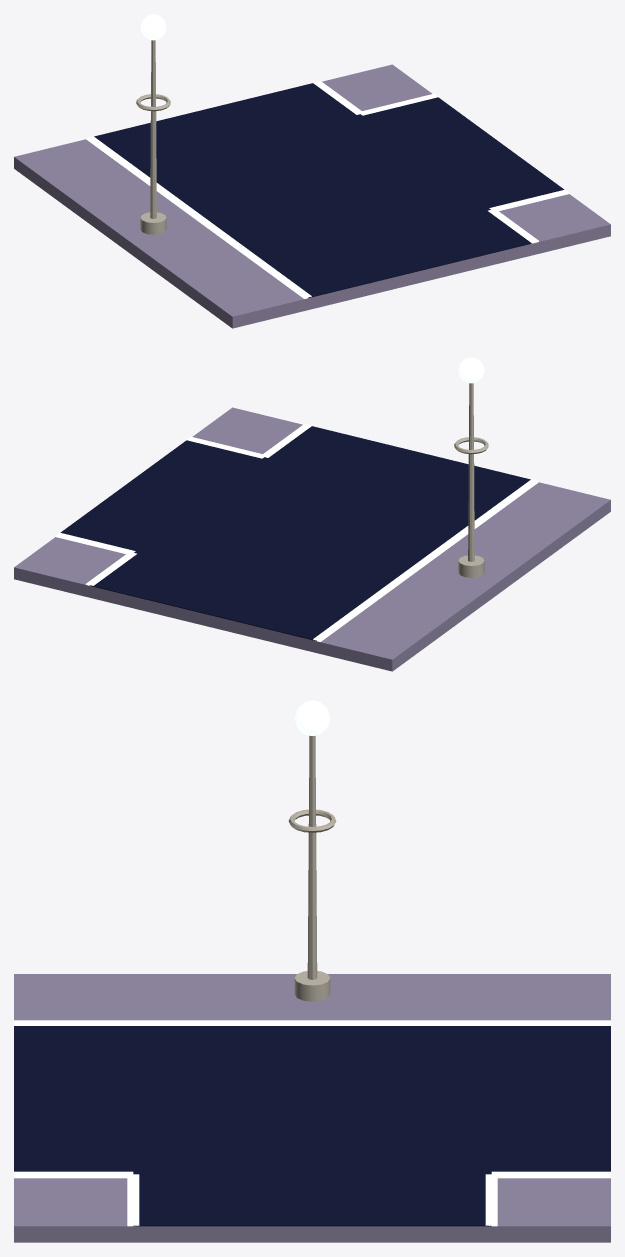
Rendered from lane_tee.glb.
The picture shows the model from 3 angles, top to bottom: view 1: azimuth 30°, elevation 25°; view 2: azimuth 150°, elevation 25°; view 3: azimuth 270°, elevation 25°; orthographic projection. The views are drawn at different scales.
Visible parts, largest first — view 1: lane_tee; view 2: lane_tee; view 3: lane_tee.
Boxes of the visible parts, bbox=[...] form: lane_tee: bbox=[14, 14, 610, 328]; lane_tee: bbox=[14, 357, 610, 671]; lane_tee: bbox=[14, 700, 610, 1242].
Size of the model in its own units: 10 by 5.7 by 10.
